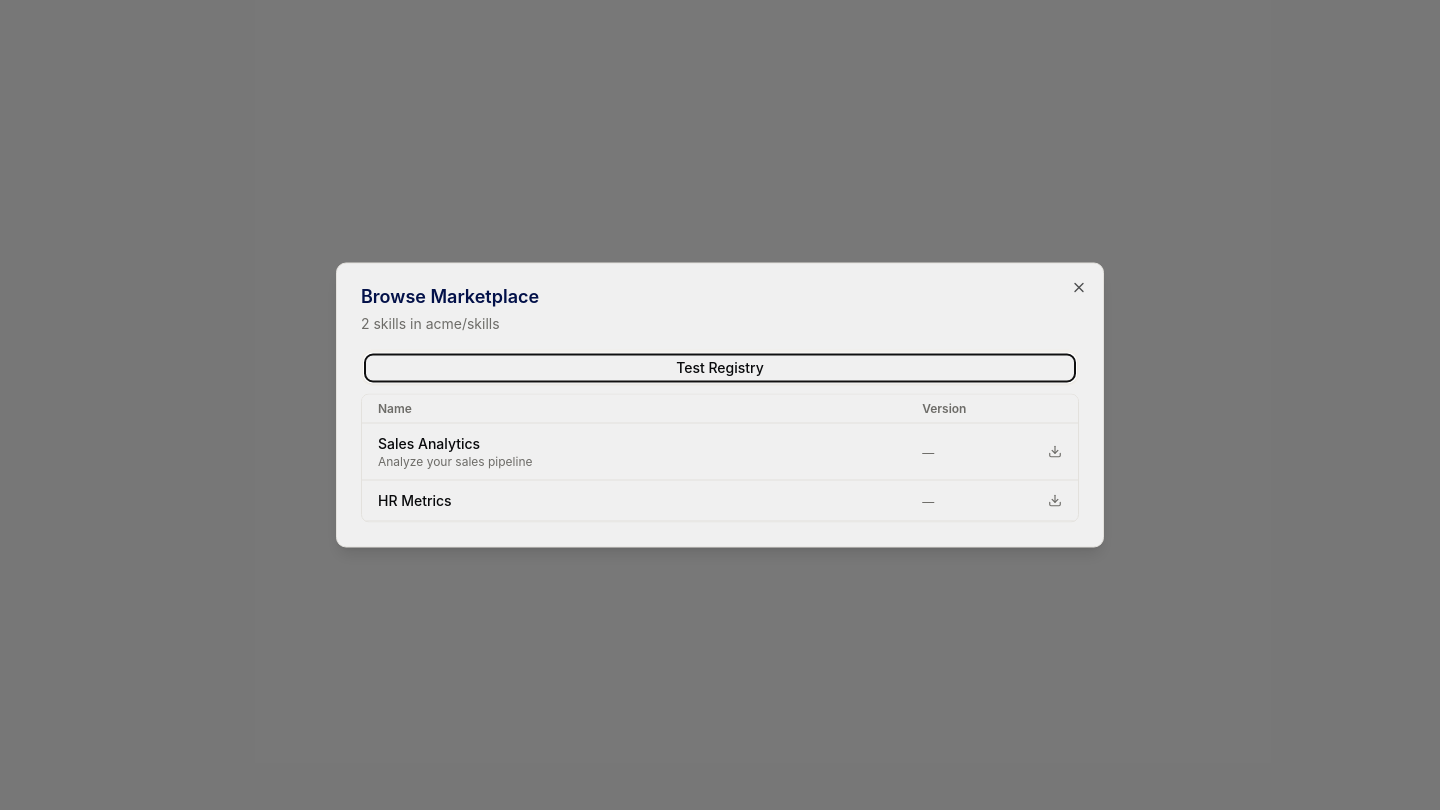
Test: GitHubImportDialog › Import dialog — workspace-skills mode › shows import dialog with purpose field after clicking edit button
Expected: the text "Sales Analytics" is shown, [378, 434, 480, 454]
Click the pencil button for the first skill
Click the button named "Install Sales Analytics". click: (1055, 452)
box: [1048, 444, 1062, 458]
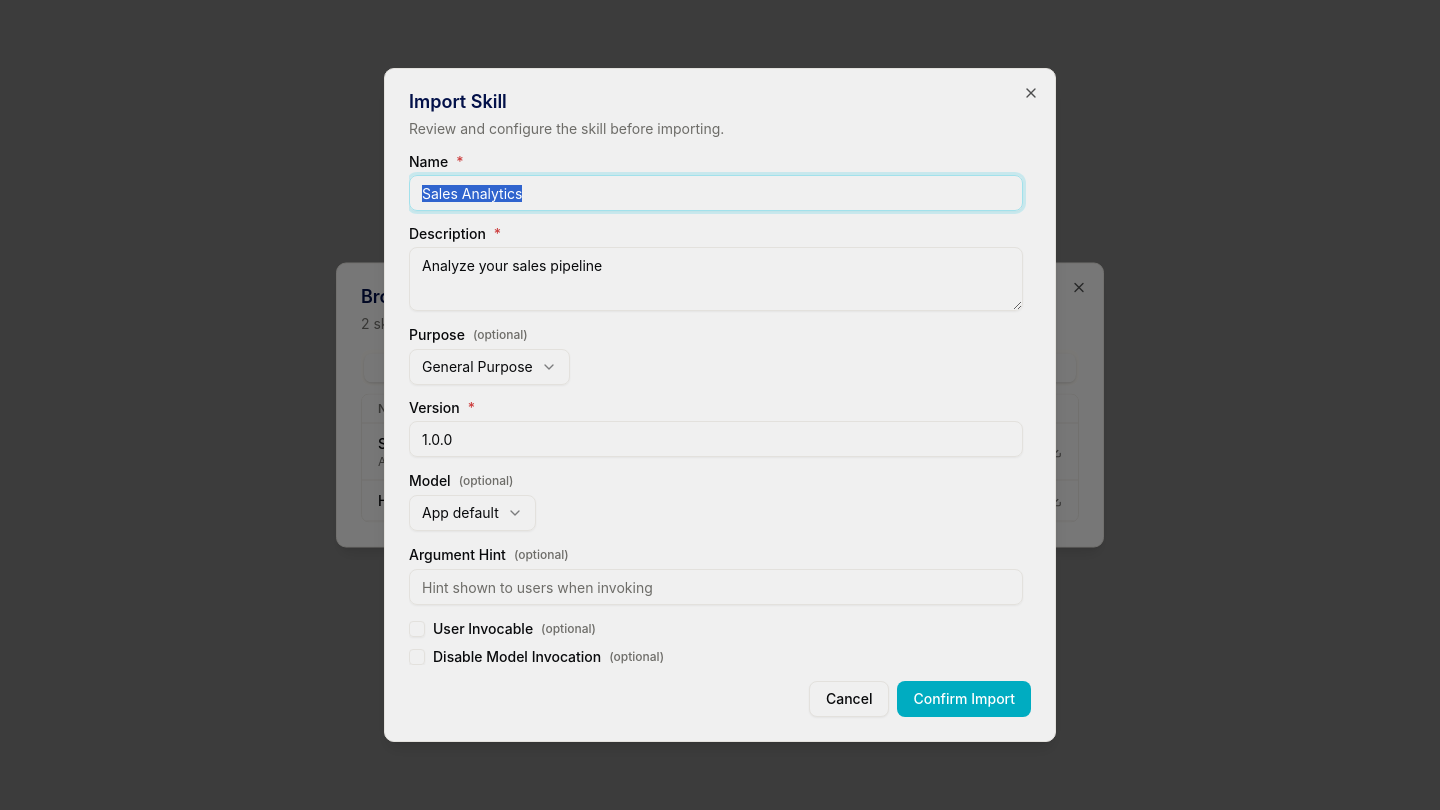
Expected: the heading "Import Skill" is shown, [409, 91, 507, 112]
Expected: the button "Confirm Import" is shown, [897, 681, 1031, 717]
